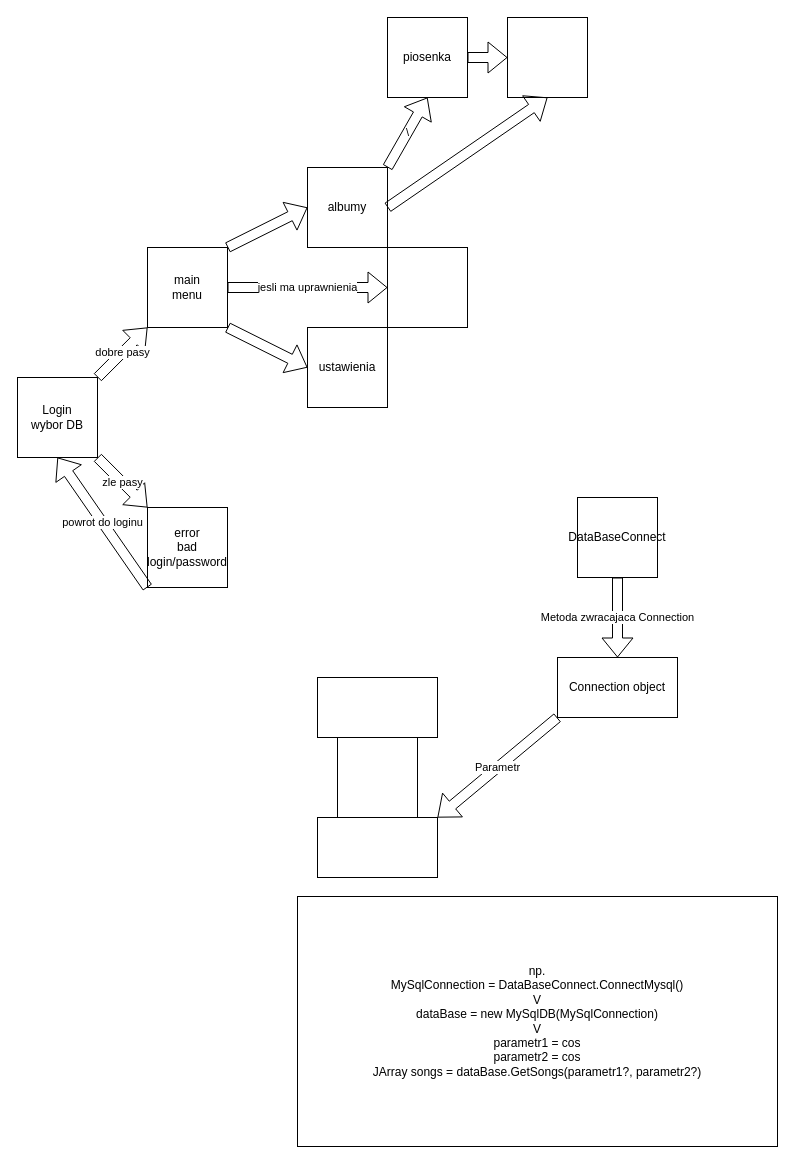
The diagram is 795 pixels wide and 1164 high, and some of its shapes have lost their labels. Each missing label, with the box of its shape:
Bazowa klasa z interfejsami: (316, 676, 438, 738)
Klasa z metodami, metody zwracaja JArray: (336, 736, 418, 818)
Konstruktor: (316, 816, 438, 878)
tworca: (506, 16, 588, 98)
uzytkownicy: (386, 246, 468, 328)
